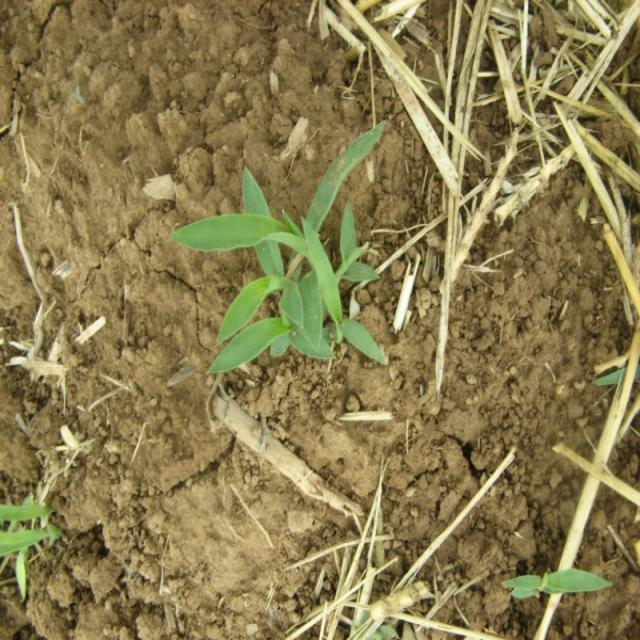bg: (174, 124, 393, 377)
